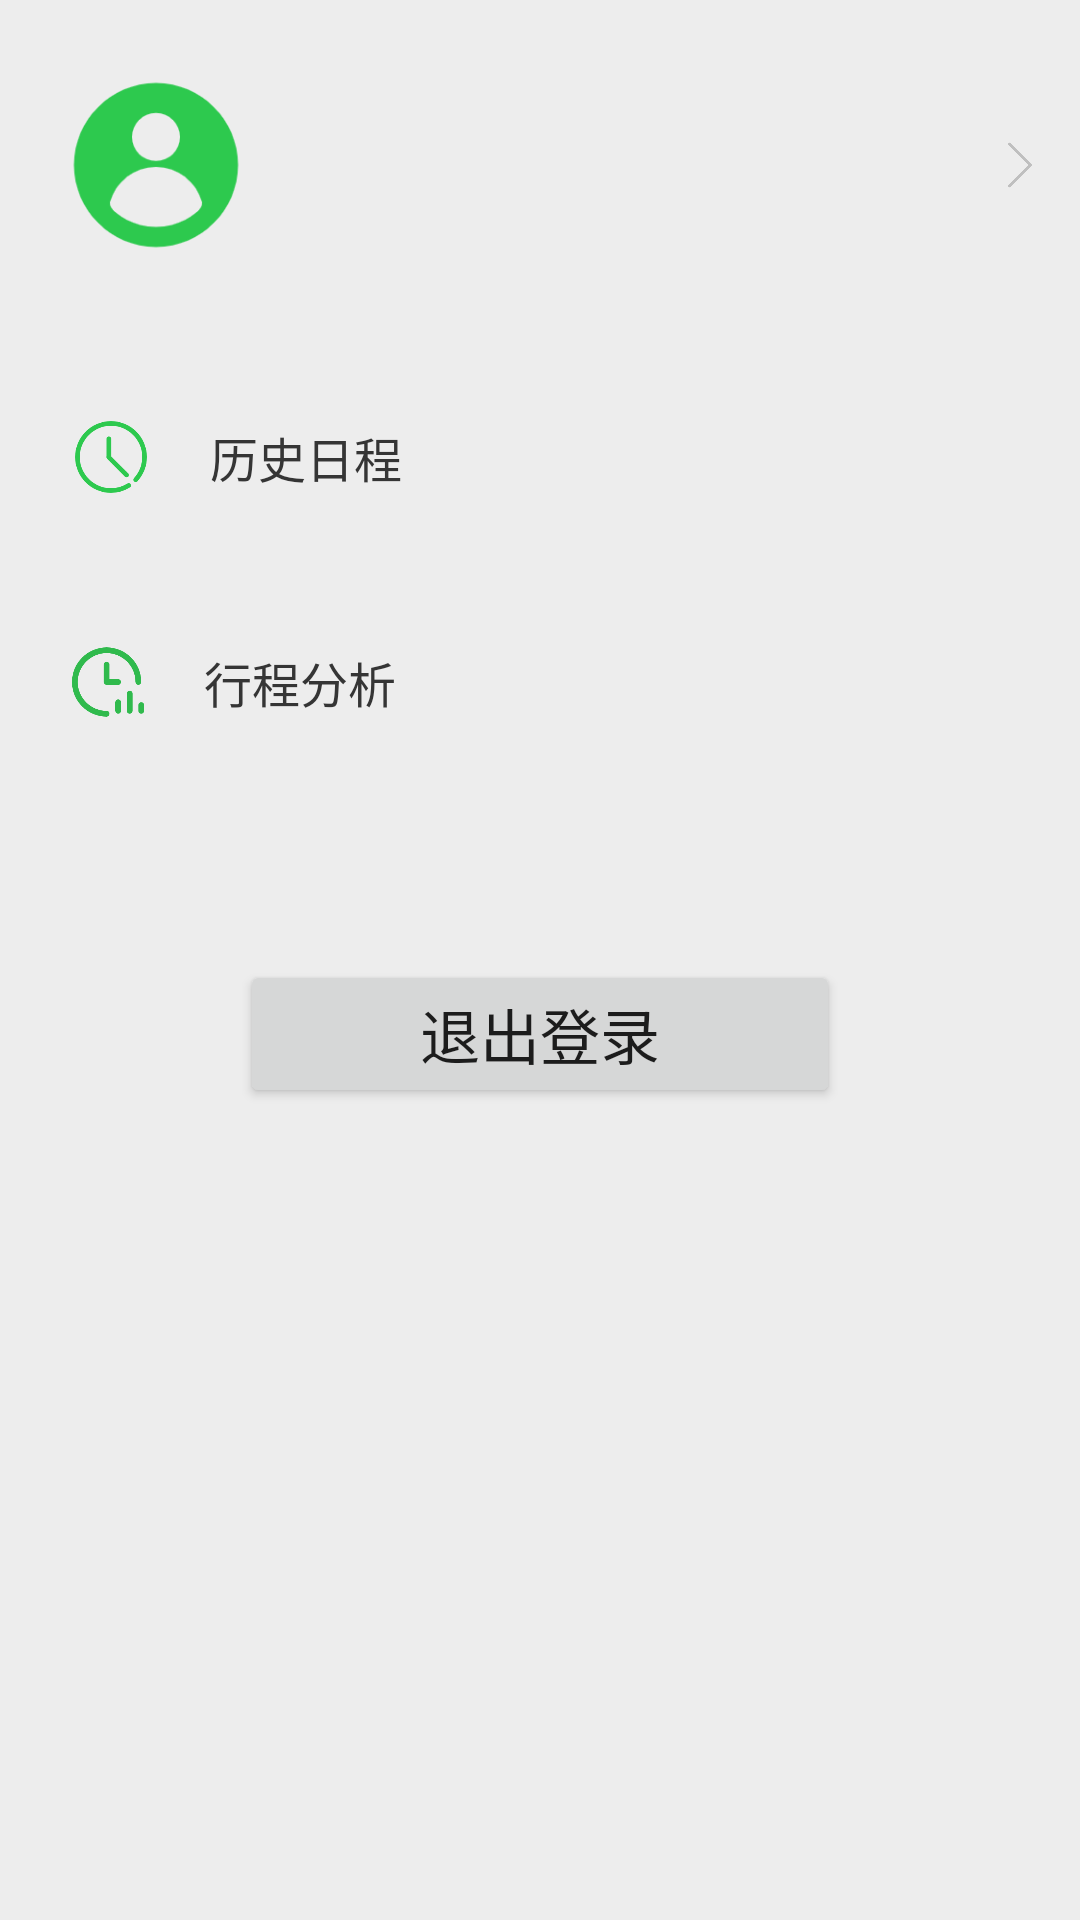

Where icons sit on this 1080px×1920px app screen, as detection(x1, y1, x2, y2):
analyze: detection(72, 647, 144, 717)
history dialog: detection(75, 421, 147, 493)
to right: detection(1008, 143, 1032, 187)
user: detection(73, 82, 239, 248)
